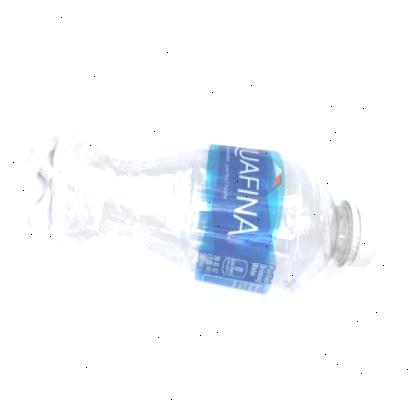Plastic Bottle: (27, 117, 378, 295)
